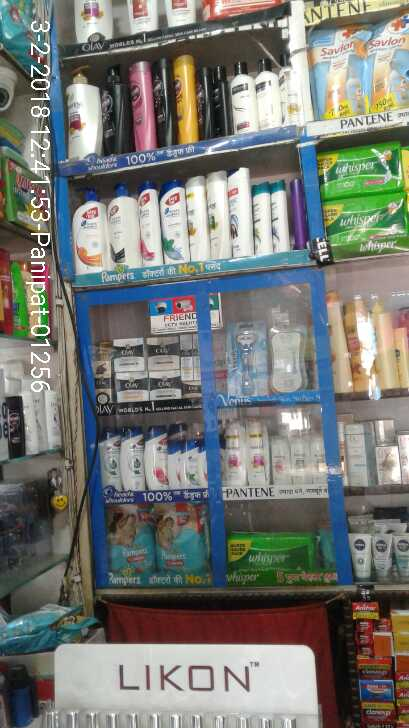venus: (270, 318, 311, 394), (228, 321, 270, 394)
